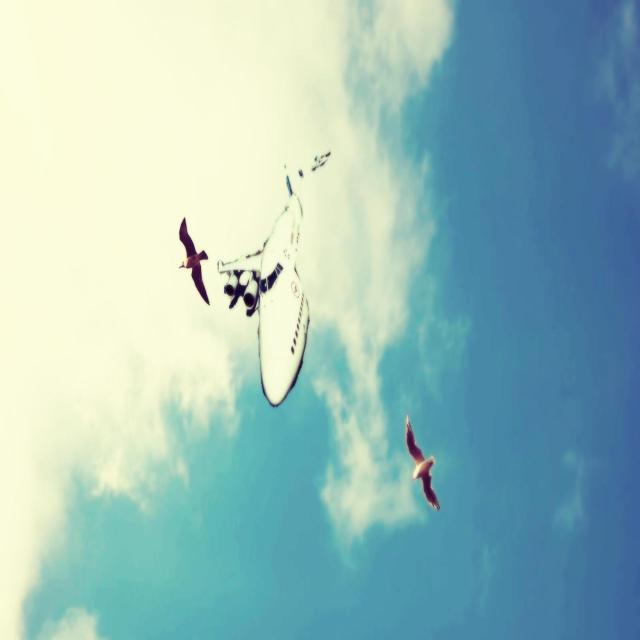airplane: (216, 150, 331, 408)
